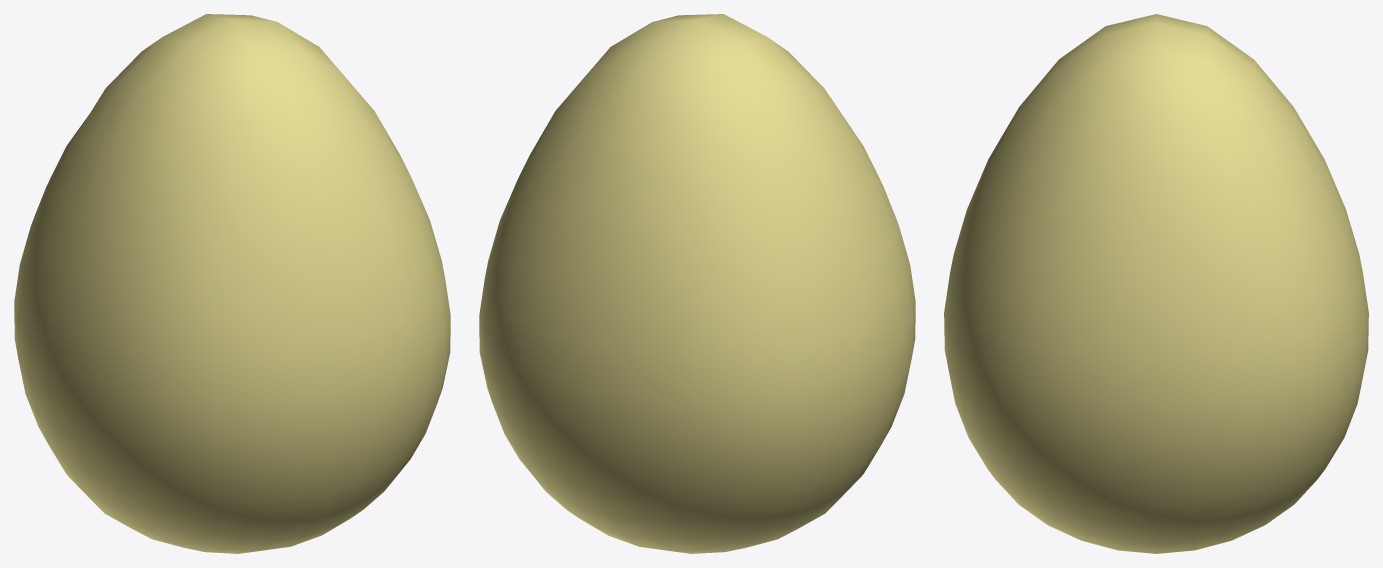
Rendered from Egg02.fbx.
The picture shows the model from 3 angles, left to right: view 1: azimuth 30°, elevation 25°; view 2: azimuth 150°, elevation 25°; view 3: azimuth 270°, elevation 25°; orthographic projection.
Visible parts, largest first — view 1: Egg; view 2: Egg; view 3: Egg.
Part boxes in pixels (x1,y1,x2,y2): Egg: (14, 14, 450, 553); Egg: (479, 14, 915, 553); Egg: (944, 14, 1368, 553).
Size of the model in its own units: 15.22 by 20.14 by 15.22.
